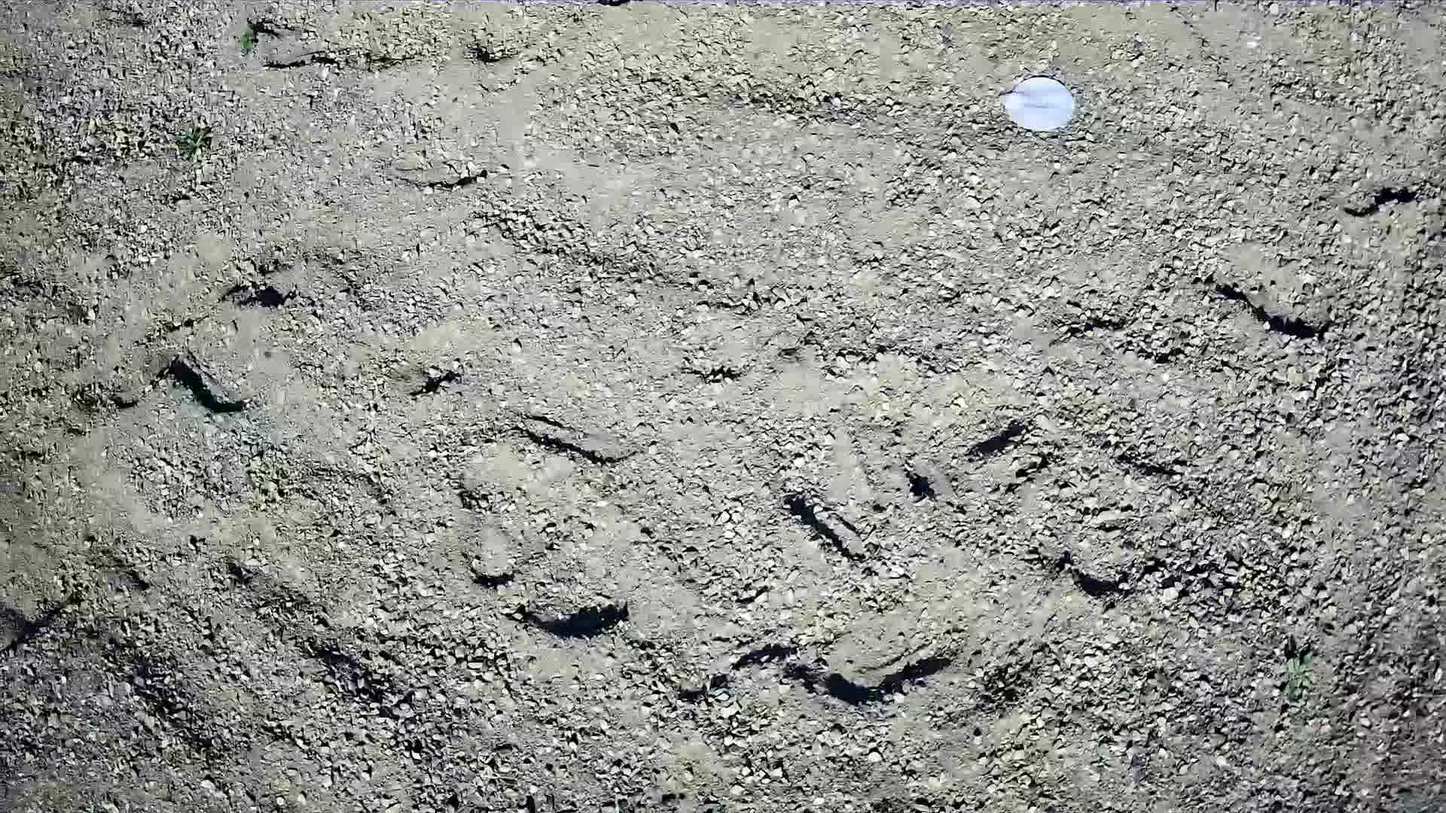Target: (1004, 77, 1077, 133)
